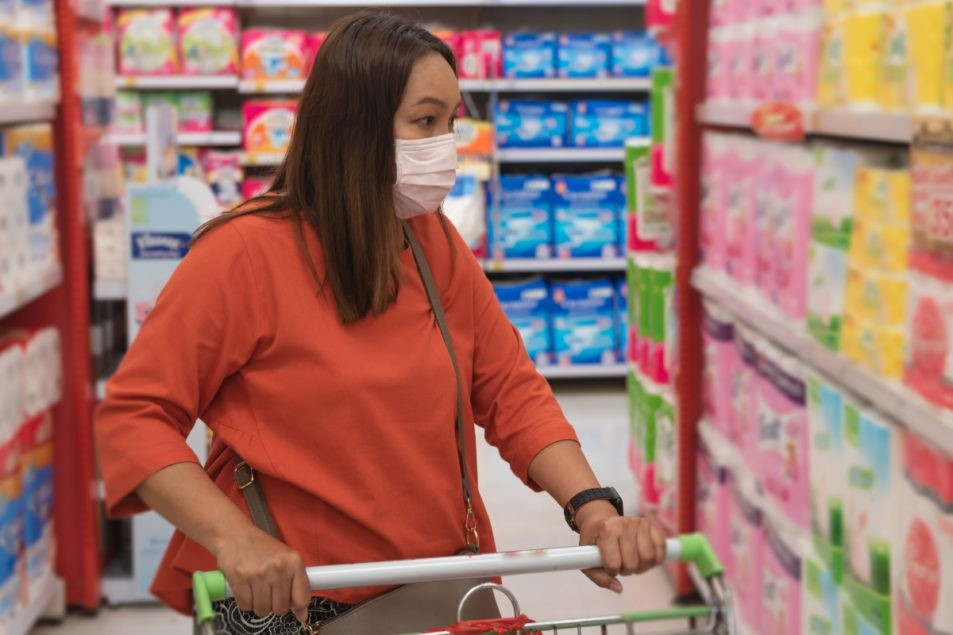face_with_mask: (304, 9, 470, 230)
